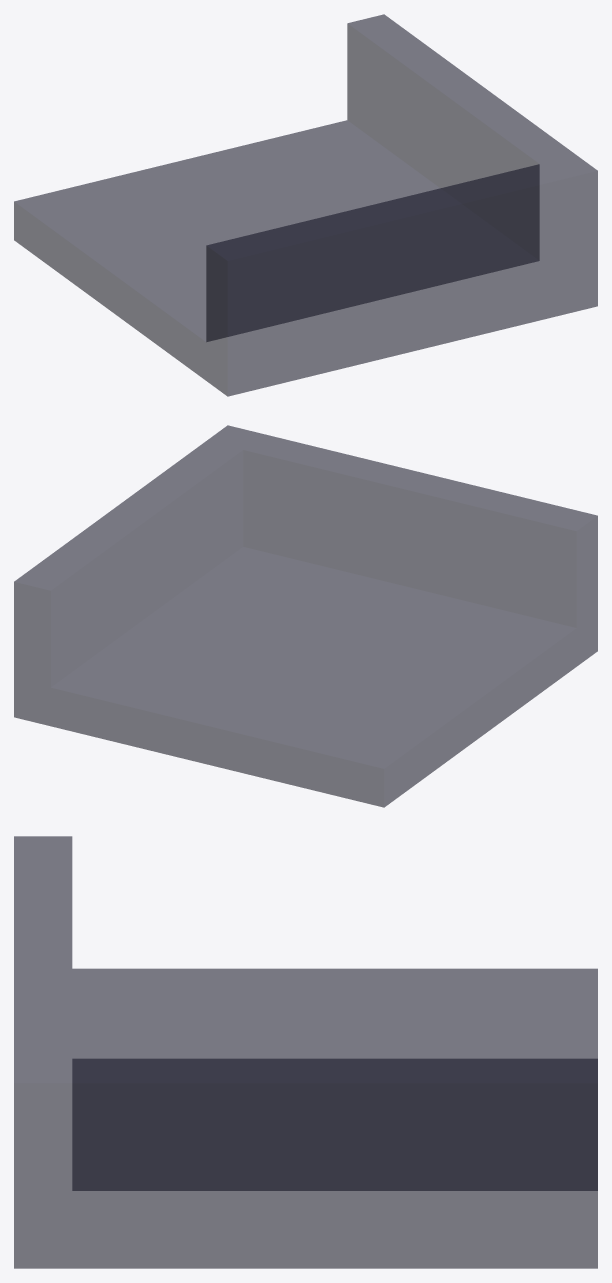
File: GlassRoof_Corner_Small.glb
The picture shows the model from 3 angles, top to bottom: view 1: azimuth 30°, elevation 25°; view 2: azimuth 150°, elevation 25°; view 3: azimuth 270°, elevation 25°; orthographic projection. The views are drawn at different scales.
Parts seen in each view (by area): view 1: roof_flat_corner_small_glass; view 2: roof_flat_corner_small_glass; view 3: roof_flat_corner_small_glass.
Boxes of the visible parts, x1=… form: roof_flat_corner_small_glass: x1=14, y1=14, x2=597, y2=396; roof_flat_corner_small_glass: x1=14, y1=425, x2=597, y2=807; roof_flat_corner_small_glass: x1=14, y1=836, x2=597, y2=1268.
Size of what is drawn, in the model's own units: 2 by 0.7 by 2.
Materials: 1 (1 with a texture image).
